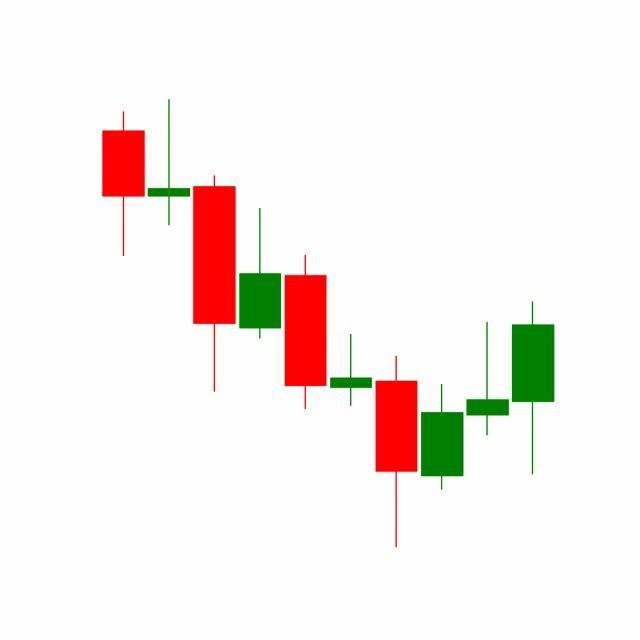Hikkake Pattern: (283, 251, 512, 548)
